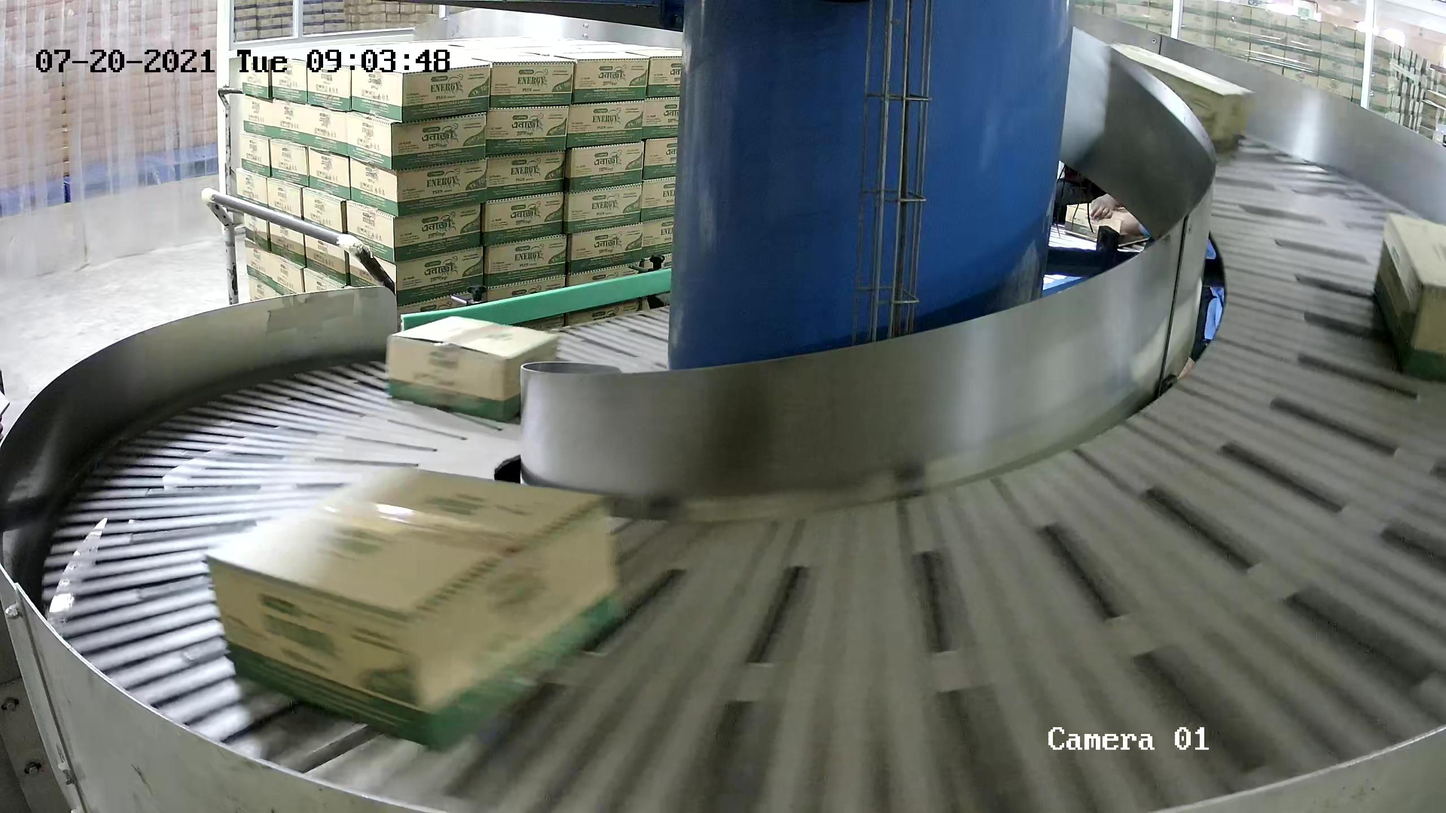Box: (203, 464, 633, 750), (386, 315, 559, 423), (1105, 41, 1253, 152), (1373, 211, 1446, 378)
